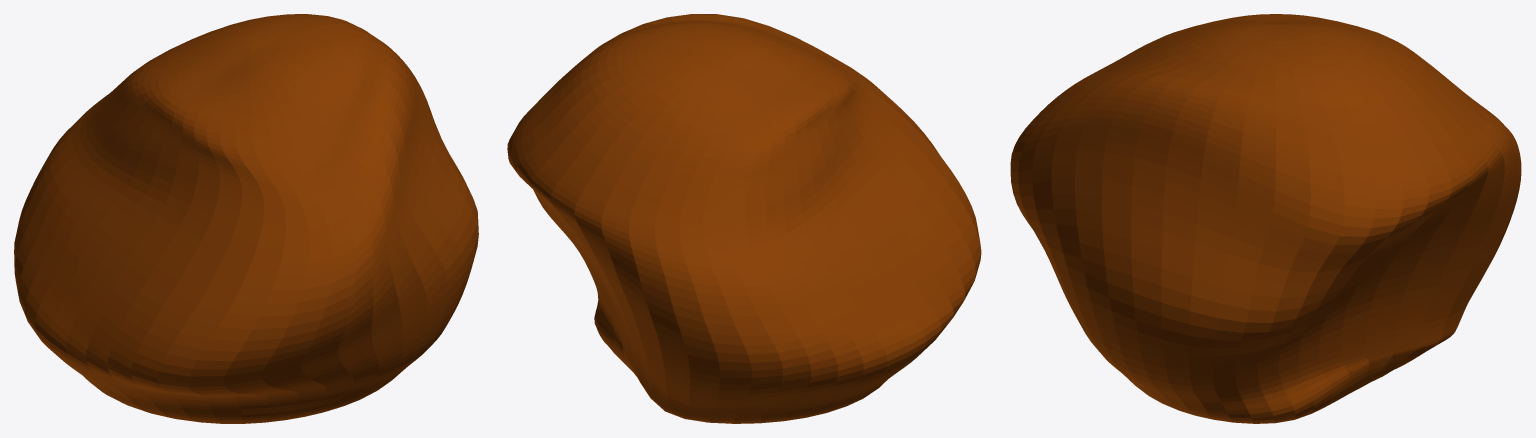
The model's file is life unshattered.fbx.
3 renders of one model, left to right at view 1: azimuth 30°, elevation 25°; view 2: azimuth 150°, elevation 25°; view 3: azimuth 270°, elevation 25°, orthographic. The views are drawn at different scales.
Visible parts, largest first — view 1: Sphere; view 2: Sphere; view 3: Sphere.
Part boxes in pixels (box(x1,y1,x2,y2)): Sphere: box(14, 14, 478, 423); Sphere: box(507, 14, 981, 423); Sphere: box(1010, 14, 1521, 423).
Bounding box in the file's own units: 66.98 × 54.85 × 68.79.
